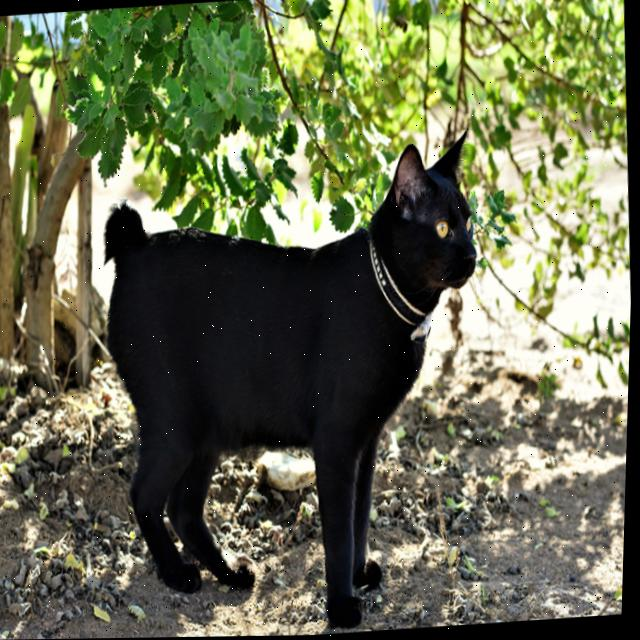American Bobtail: (86, 123, 502, 639)
